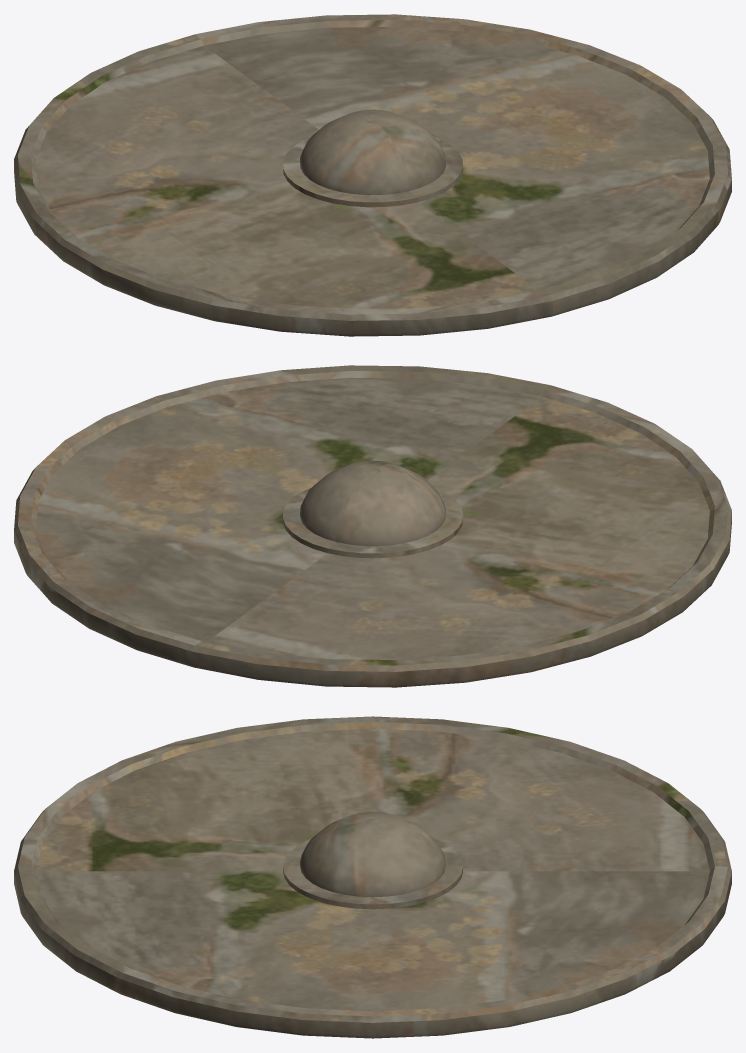
Rendered from shield.fbx.
The picture shows the model from 3 angles, top to bottom: view 1: azimuth 30°, elevation 25°; view 2: azimuth 150°, elevation 25°; view 3: azimuth 270°, elevation 25°; orthographic projection.
Parts seen in each view (by area): view 1: Cylinder.052; view 2: Cylinder.052; view 3: Cylinder.052.
Boxes of the visible parts, box(x1,y1,x2,y2) form: Cylinder.052: box(14, 14, 731, 336); Cylinder.052: box(14, 365, 731, 687); Cylinder.052: box(14, 716, 731, 1038).
Size of the model in its own units: 90.33 by 9.07 by 90.33.
